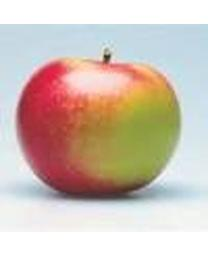apple: (12, 45, 183, 195)
